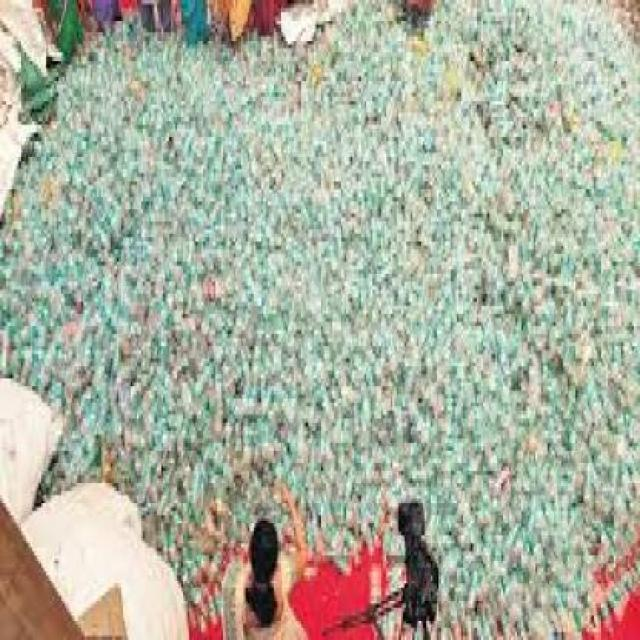garbage: (0, 49, 638, 480)
